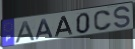0: (75, 12, 92, 35)
A: (14, 20, 37, 44), (35, 18, 55, 41), (54, 16, 74, 38)
C: (93, 10, 113, 32)
S: (113, 5, 132, 30)
